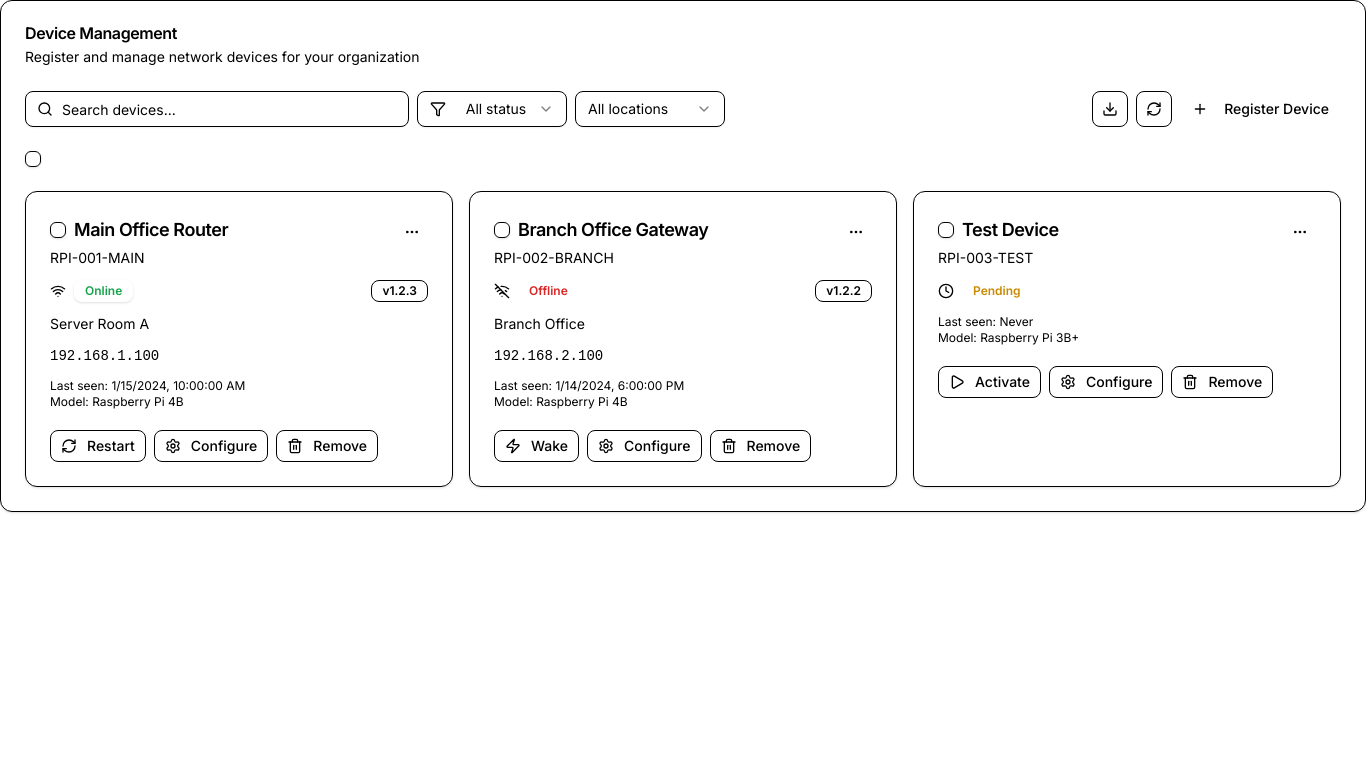
Test: DeviceRegistration › Device Registration Flow › should open registration modal when clicking register button
Click the button "Register Device".
click(1261, 109)  # box [1180,91,1341,127]
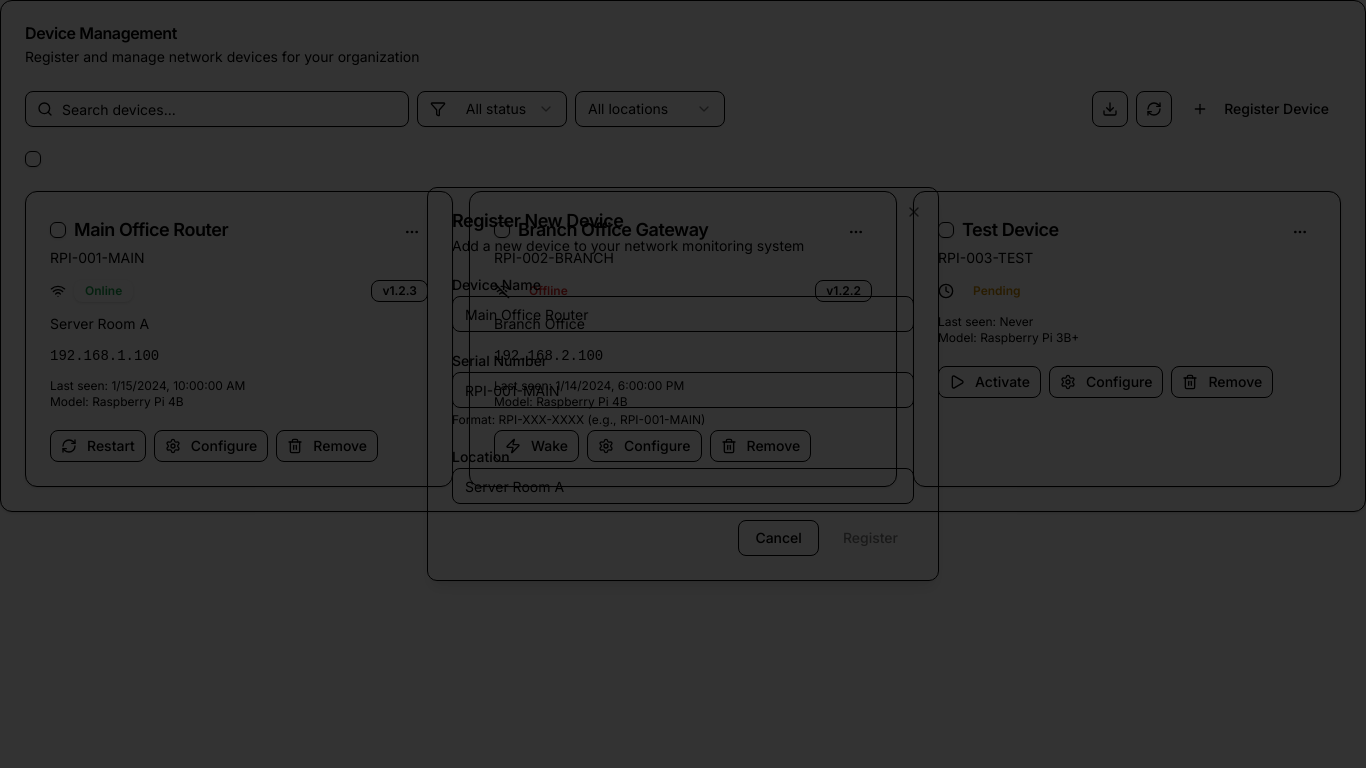
expect the dialog is shown: met, box [427,187,939,581]
expect the heading "Register New Device" is shown: met, box [452,210,623,231]
